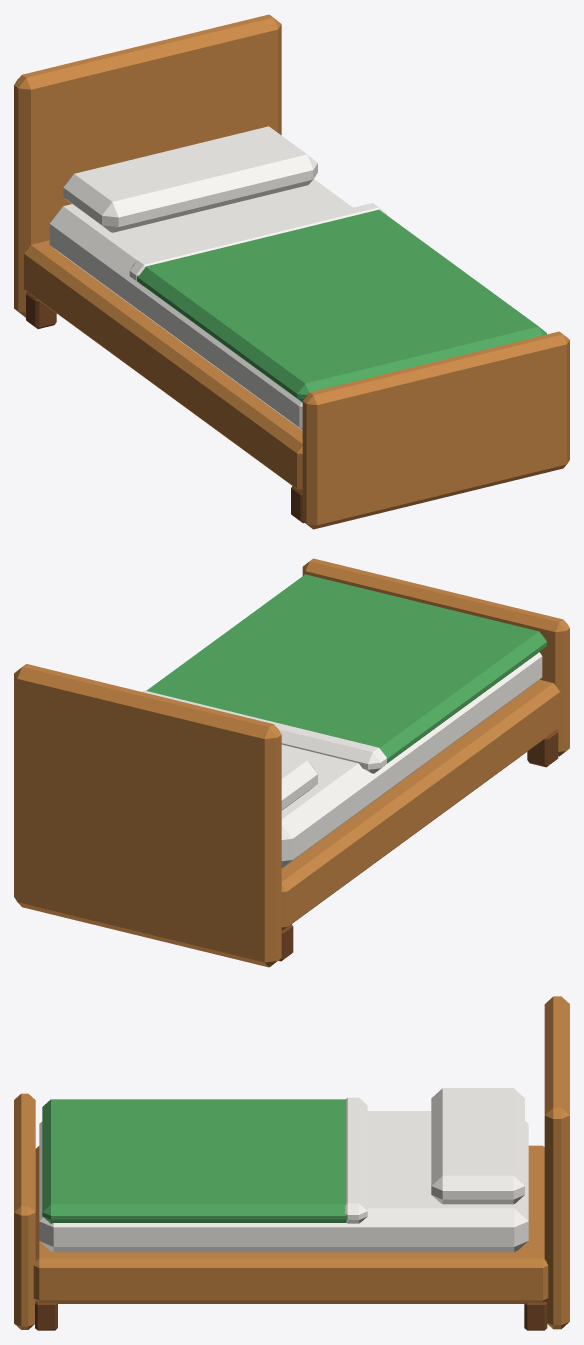
The model's file is GreenBed.fbx.
3 renders of one model, top to bottom at view 1: azimuth 30°, elevation 25°; view 2: azimuth 150°, elevation 25°; view 3: azimuth 270°, elevation 25°, orthographic. The views are drawn at different scales.
Parts seen in each view (by area): view 1: GreenBed; view 2: GreenBed; view 3: GreenBed.
Part boxes in pixels (<box>): GreenBed: <box>14,14,569,529</box>; GreenBed: <box>14,558,569,967</box>; GreenBed: <box>14,996,569,1330</box>.
Bounding box in the file's own units: 3.9 × 3.4 × 7.73.
Materials: 1 (1 with a texture image).
